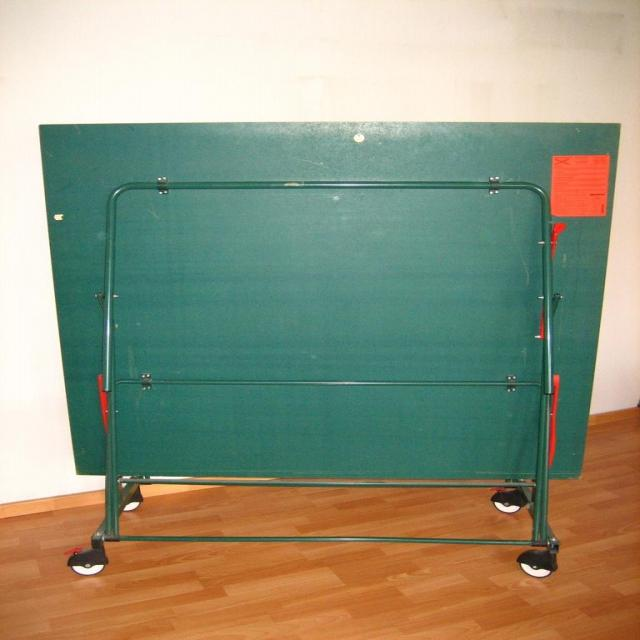Table: (27, 145, 634, 589)
